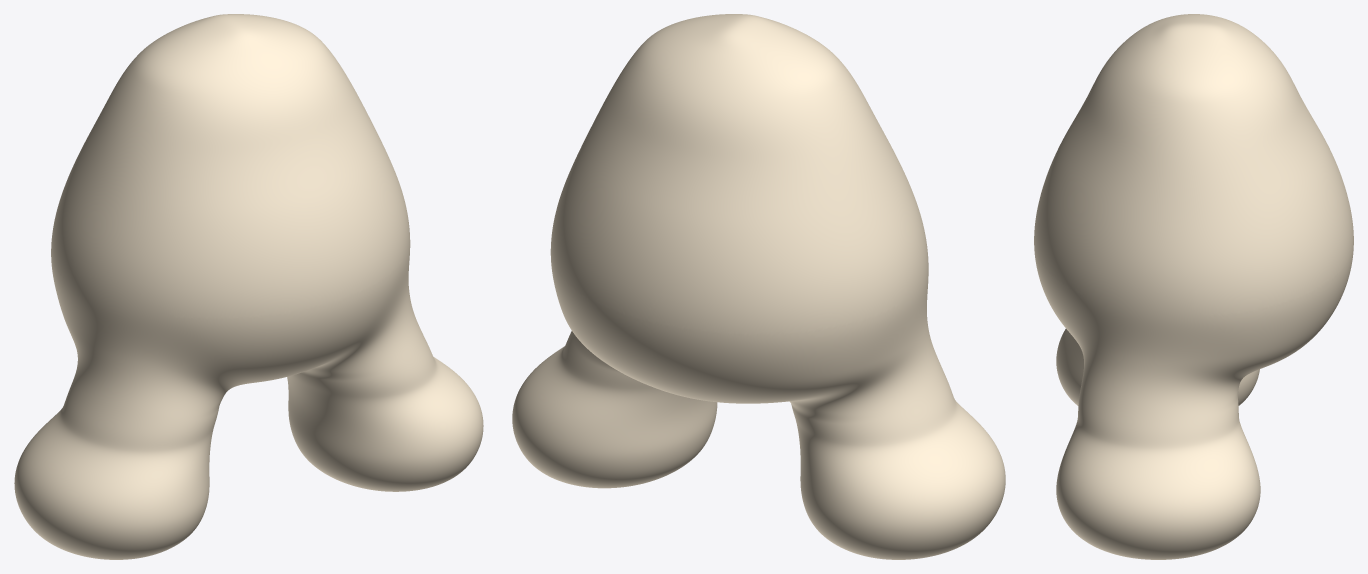
File: body-legs.glb
The picture shows the model from 3 angles, left to right: view 1: azimuth 30°, elevation 25°; view 2: azimuth 150°, elevation 25°; view 3: azimuth 270°, elevation 25°; orthographic projection. The views are drawn at different scales.
Parts seen in each view (by area): view 1: BodyLegs_DesignV6; view 2: BodyLegs_DesignV6; view 3: BodyLegs_DesignV6.
Part boxes in pixels (left/top/right/bottom): BodyLegs_DesignV6: left=14, top=14, right=483, bottom=559; BodyLegs_DesignV6: left=512, top=14, right=1005, bottom=559; BodyLegs_DesignV6: left=1034, top=14, right=1353, bottom=559.
Bounding box in the file's own units: 54.7 × 56 × 35.99.
